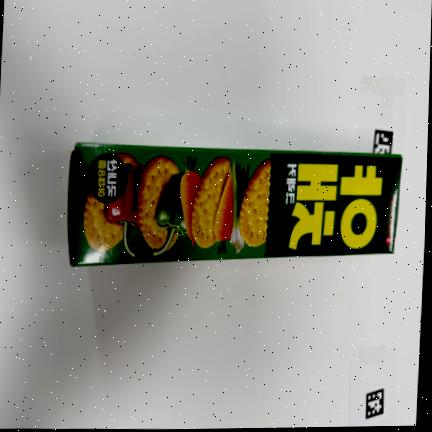cracker_vege: (67, 143, 402, 265)
